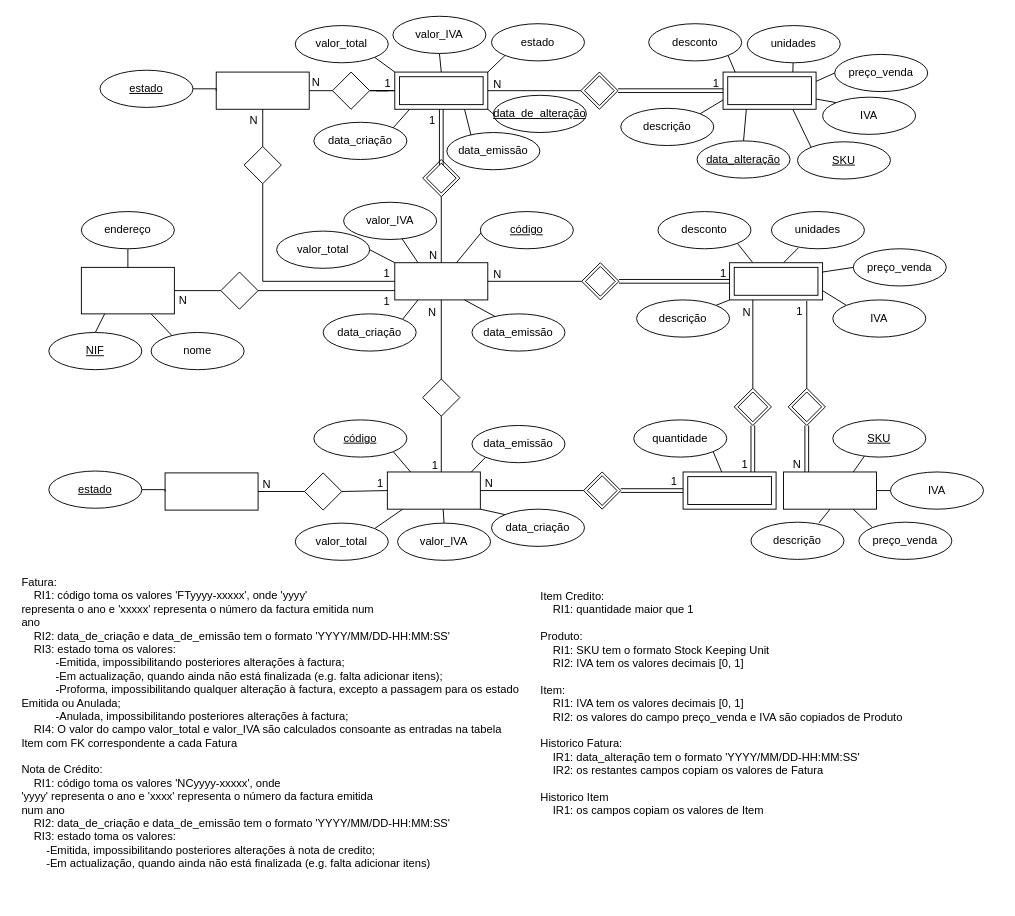
This 1015x916 diagram has some shape labels left out. The centre of each missing label's shape, as x and y in pixels:
"Contribuinte" goes at [127,290].
"Estado Fatura" goes at [262,90].
"Estado Nota de Credito" goes at [211,491].
"Fatura" goes at [441,281].
"Historico Fatura" goes at [441,90].
"Historico Item" goes at [769,90].
"Item" goes at [776,281].
"Item Credito" goes at [729,490].
"Nota de Credito" goes at [433,490].
"Produto" goes at [830,490].
